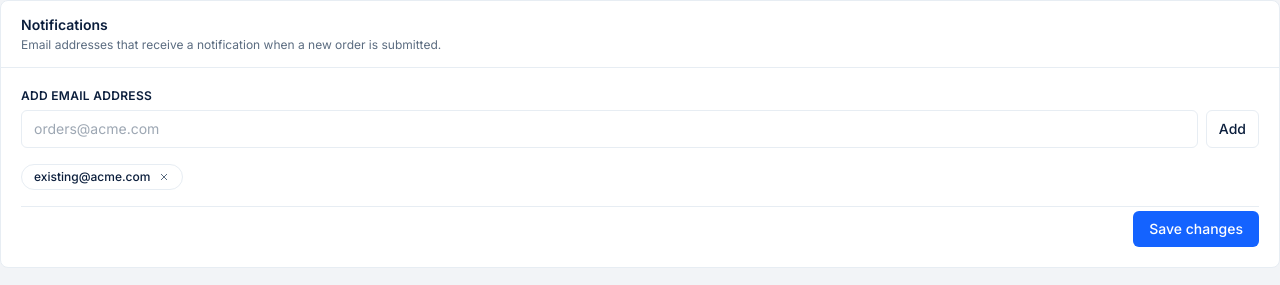
it: NotificationsForm › shows Saved after successful save
Click the button "Save changes": (1196, 229) x1=1133 y1=211 x2=1259 y2=247
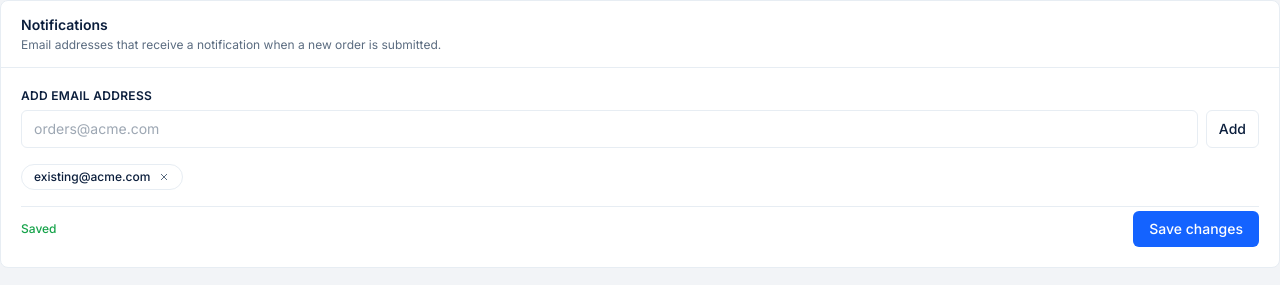
Result: the text "Saved" is shown at x1=21 y1=221 x2=56 y2=237
